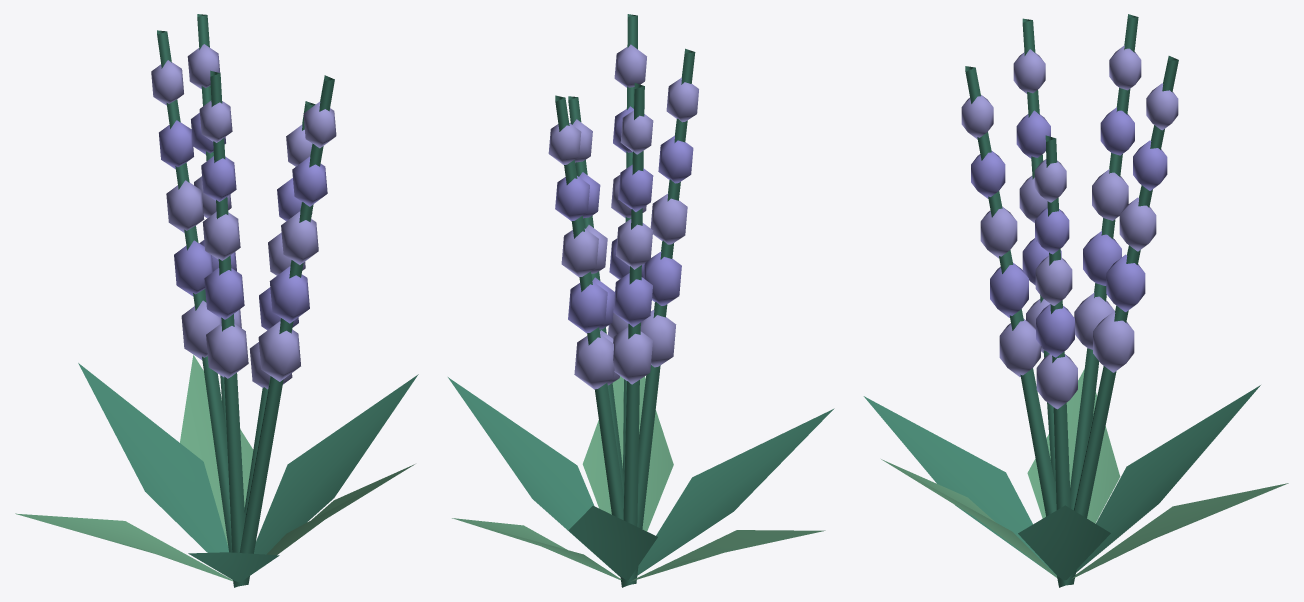
The model's file is catmint.glb.
3 views of the same model, side by side, from view 1: azimuth 30°, elevation 25°; view 2: azimuth 150°, elevation 25°; view 3: azimuth 270°, elevation 25° (orthographic). The views are drawn at different scales.
Visible parts, largest first — view 1: catmint; view 2: catmint; view 3: catmint.
Boxes of the visible parts, left/top/right/bottom form: catmint: left=15, top=14, right=418, bottom=587; catmint: left=448, top=14, right=834, bottom=587; catmint: left=863, top=14, right=1288, bottom=587.
Size of what is drawn, in the model's own units: 0.3813 by 0.5 by 0.3537.
